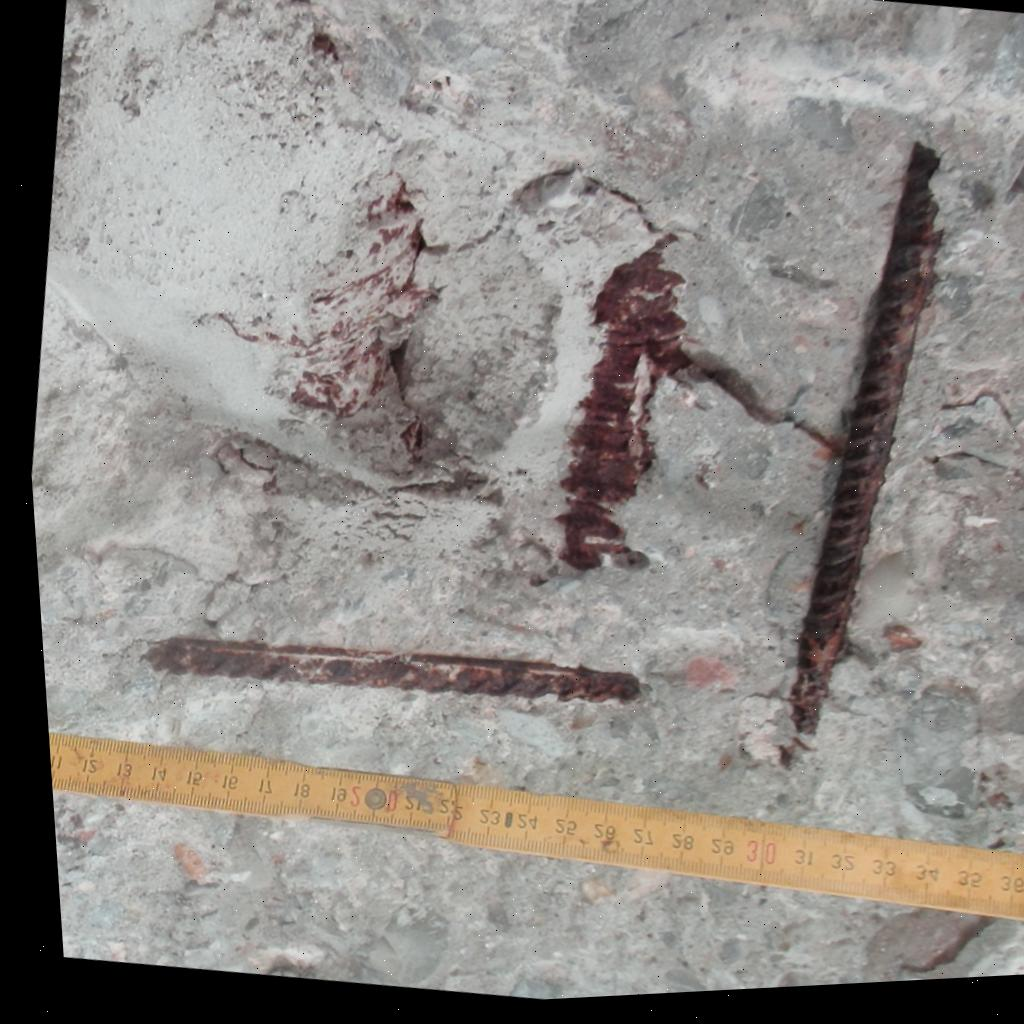exposed_rebar: (790, 143, 943, 734), (558, 235, 690, 570), (145, 636, 640, 703)
